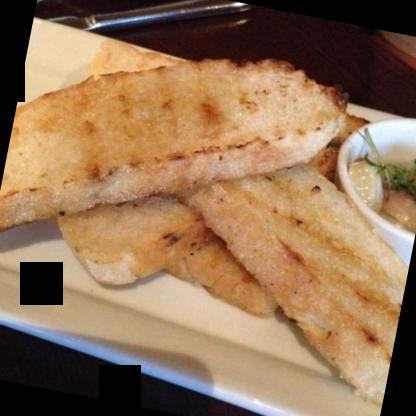toast bread: (0, 12, 350, 316), (156, 145, 415, 400), (55, 152, 198, 299)
